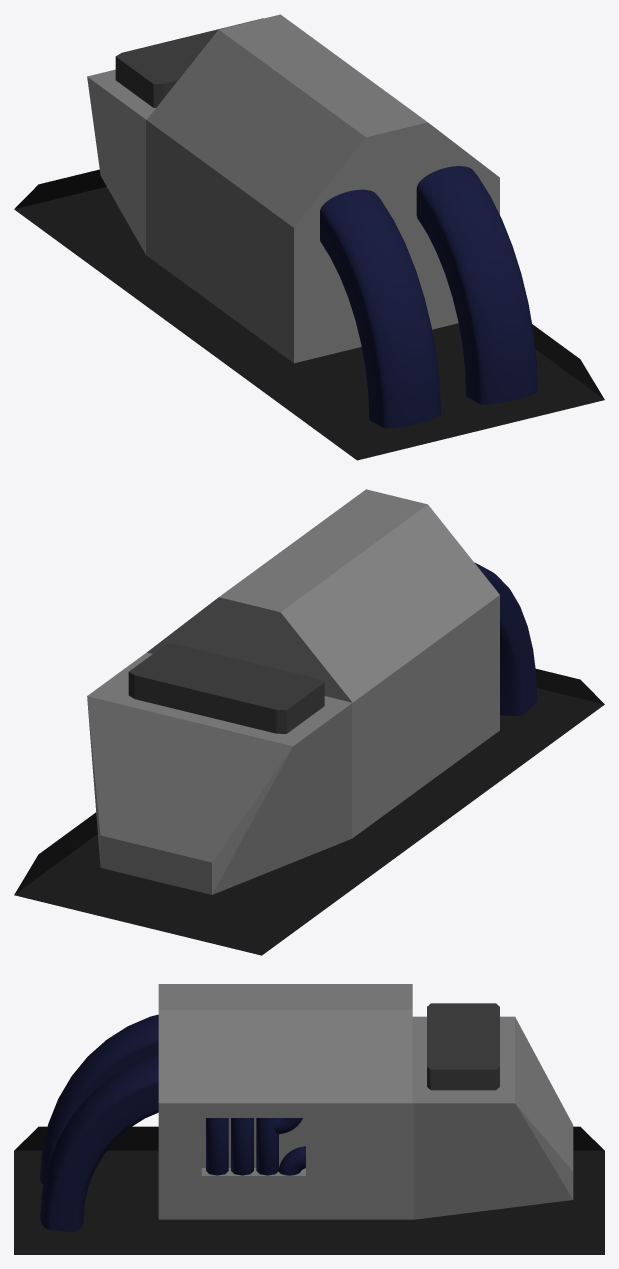
File: Generator.glb
3 renders of one model, top to bottom at view 1: azimuth 30°, elevation 25°; view 2: azimuth 150°, elevation 25°; view 3: azimuth 270°, elevation 25°, orthographic. The views are drawn at different scales.
Parts seen in each view (by area): view 1: Cube, Plane.002, Plane.001, Plane, Cube.001; view 2: Cube, Plane.002, Cube.001, Plane; view 3: Cube, Plane.002, Plane.001, Cube.001, Plane, Cylinder, Plane.003.
Part boxes in pixels (x1,y1,x2,y2): Cube: [87, 14, 499, 363]; Plane.002: [14, 169, 604, 460]; Plane.001: [416, 166, 537, 404]; Plane: [320, 189, 440, 428]; Cube.001: [115, 18, 263, 107]; Cube: [87, 489, 499, 894]; Plane.002: [14, 669, 604, 955]; Cube.001: [128, 644, 324, 733]; Plane: [474, 562, 537, 715]; Cube: [158, 984, 573, 1219]; Plane.002: [14, 1126, 604, 1254]; Plane.001: [40, 1055, 158, 1231]; Cube.001: [427, 1003, 499, 1090]; Plane: [40, 1014, 158, 1185]; Cylinder: [206, 1118, 278, 1175]; Plane.003: [278, 1146, 305, 1175].
Bounding box in the file's own units: 6.77 × 6.23 × 16.22.
